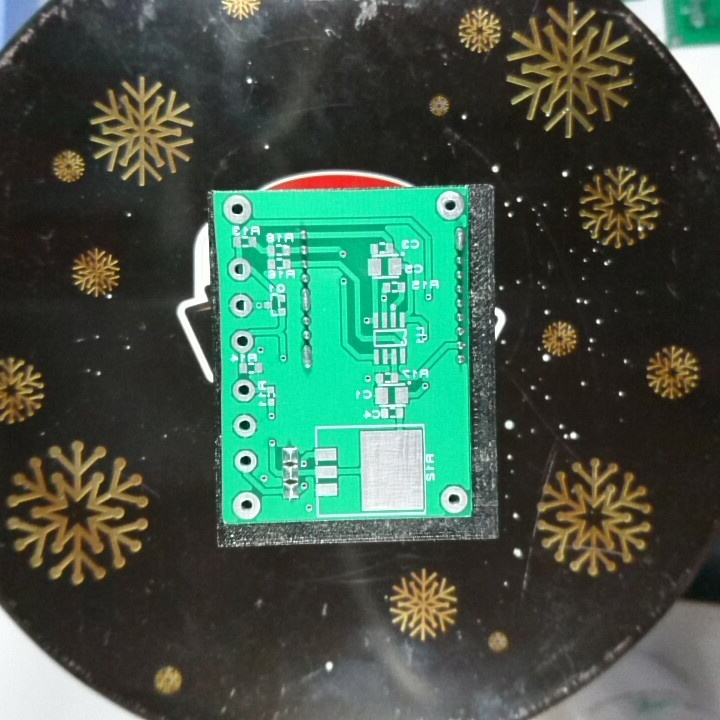F: (432, 189, 467, 224), (220, 193, 257, 226), (437, 483, 472, 514), (231, 491, 264, 521), (228, 328, 257, 356), (228, 292, 256, 320), (229, 378, 257, 406), (225, 256, 254, 283), (231, 447, 260, 474), (231, 412, 258, 440)
P: (297, 285, 315, 315), (299, 343, 315, 373), (452, 223, 467, 254)
